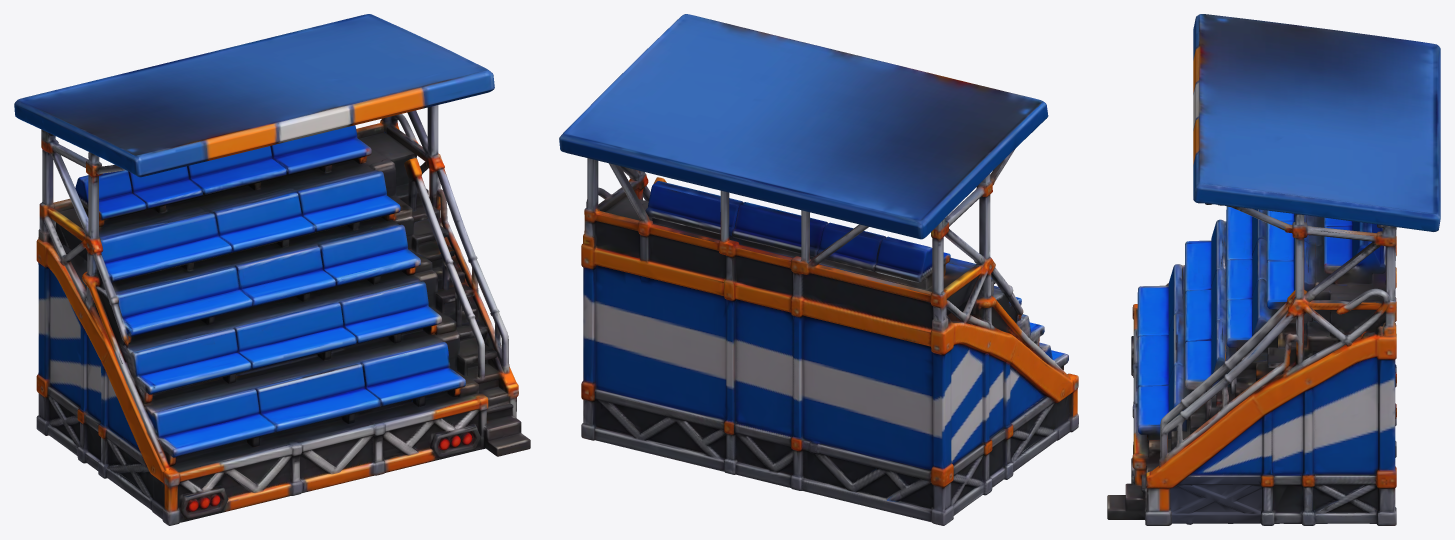
File: spectator-grandstand.glb
3 views of the same model, side by side, from view 1: azimuth 30°, elevation 25°; view 2: azimuth 150°, elevation 25°; view 3: azimuth 270°, elevation 25° (orthographic). The views are drawn at different scales.
Parts seen in each view (by area): view 1: module_fit; view 2: module_fit; view 3: module_fit.
Part boxes in pixels (x1=…): module_fit: x1=14, y1=14, x2=530, y2=525; module_fit: x1=559, y1=14, x2=1078, y2=525; module_fit: x1=1107, y1=14, x2=1440, y2=525.
Size of the model in its own units: 0.7769 by 0.7168 by 0.633.
1 material, 1 textured.
